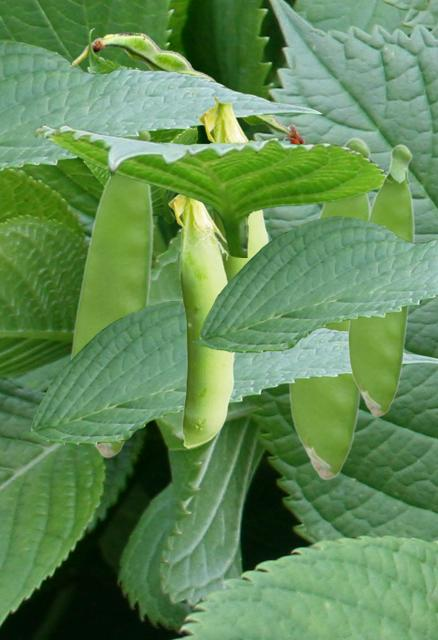pea: (288, 136, 371, 479), (70, 132, 153, 457), (71, 32, 305, 142), (347, 143, 414, 416), (168, 194, 233, 447), (198, 94, 268, 279)
